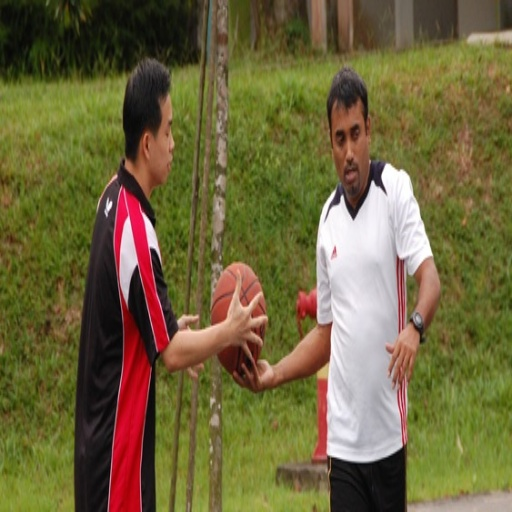hand: (224, 263, 269, 359), (391, 310, 420, 391), (176, 310, 205, 384), (230, 355, 275, 395)
